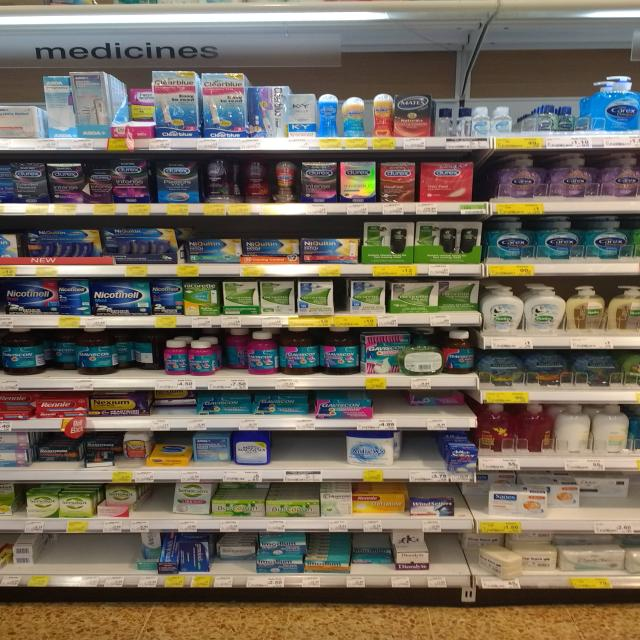empty: (44, 531, 136, 567), (273, 433, 344, 463), (429, 534, 472, 572), (131, 483, 174, 517), (406, 434, 444, 462), (512, 96, 533, 134)
